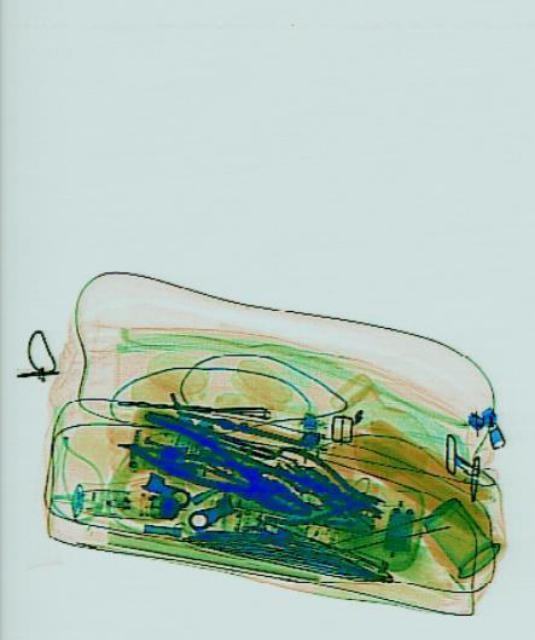Pliers: (125, 403, 318, 532), (266, 442, 389, 544)
